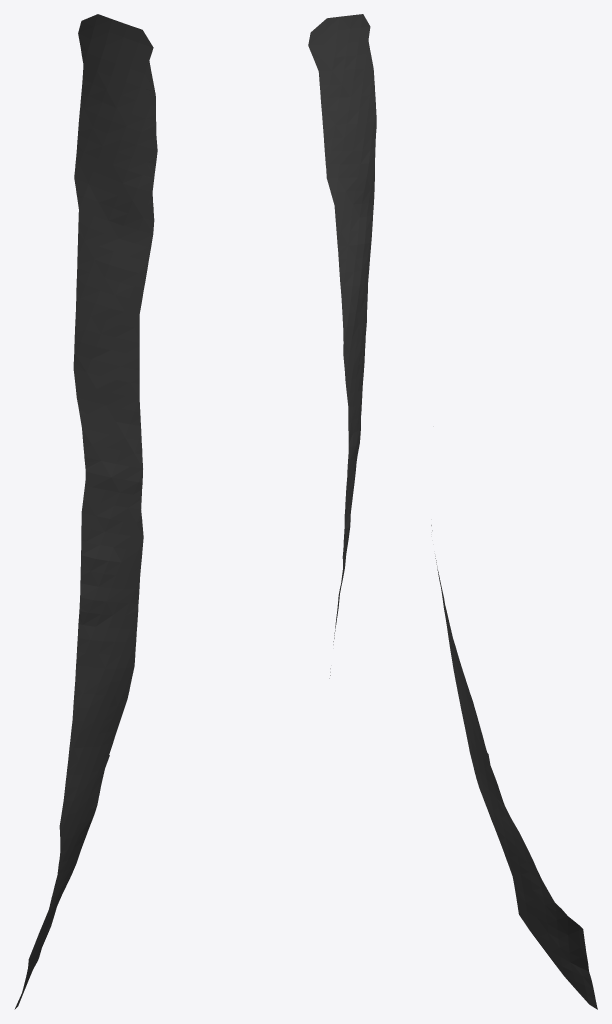
File: eq_dist_limb_Extensor_Retinaculum_Complex.glb
3 views of the same model, side by side, from view 1: azimuth 90°, elevation 25°; view 2: azimuth 150°, elevation 25°; view 3: azimuth 330°, elevation 25° (orthographic). The views are drawn at different scales.
Visible parts, largest first — view 1: eq_dist_limb_Extensor_Retinaculum_Complex; view 2: eq_dist_limb_Extensor_Retinaculum_Complex; view 3: eq_dist_limb_Extensor_Retinaculum_Complex.
Boxes of the visible parts, x1,y1,x2,y2 form: eq_dist_limb_Extensor_Retinaculum_Complex: [14, 14, 157, 1009]; eq_dist_limb_Extensor_Retinaculum_Complex: [308, 14, 376, 678]; eq_dist_limb_Extensor_Retinaculum_Complex: [431, 525, 597, 1009].
Size of the model in its own units: 0.00265 by 0.0183 by 0.00227.
1 material, 1 textured.
